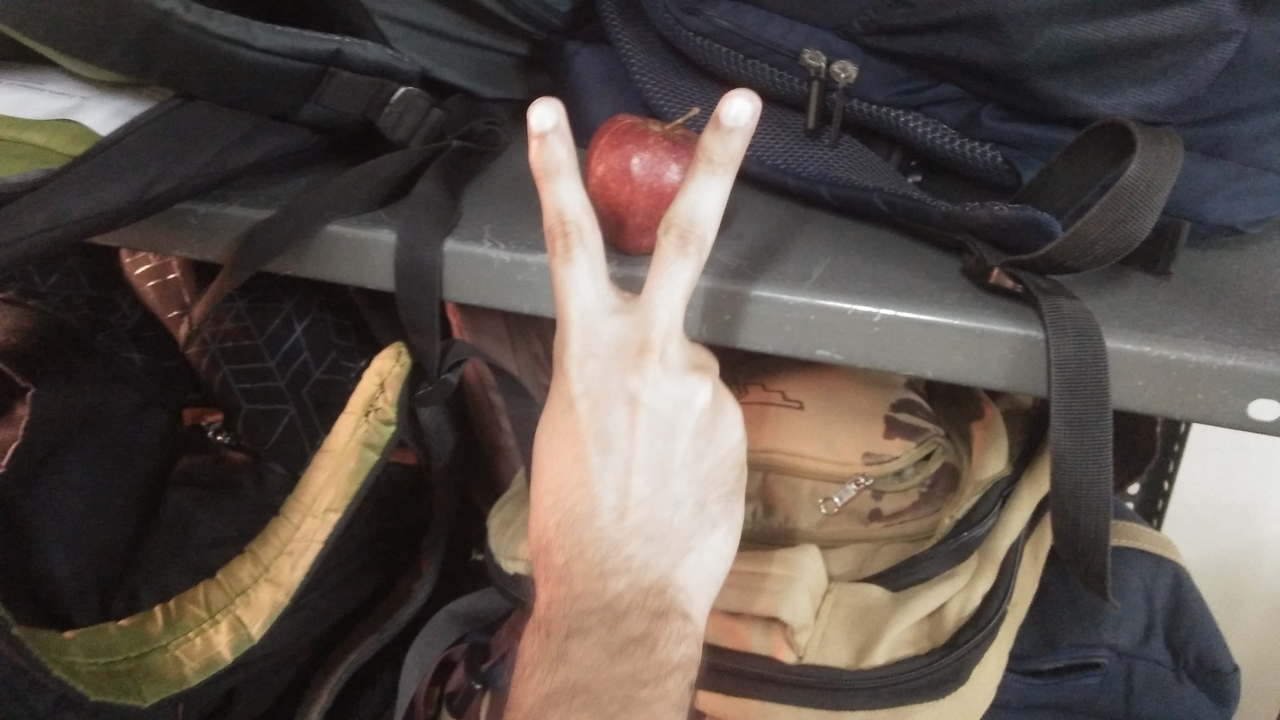fingertip: (512, 86, 580, 152), (702, 80, 772, 138)
